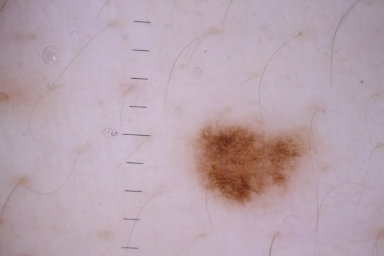melanoma: (194, 122, 308, 202)
